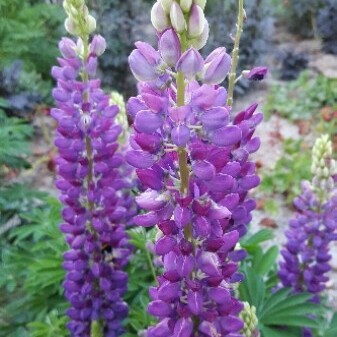obstacle: (142, 26, 274, 312), (57, 17, 138, 330)
